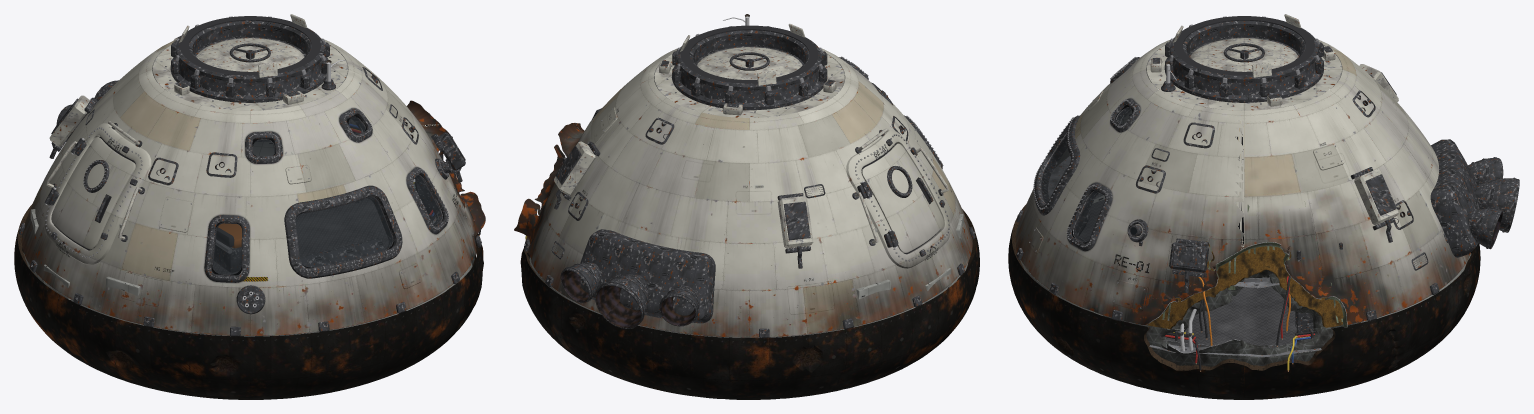
The model's file is capsule_shell_remnant.glb.
3 renders of one model, left to right at view 1: azimuth 30°, elevation 25°; view 2: azimuth 150°, elevation 25°; view 3: azimuth 270°, elevation 25°, orthographic. The views are drawn at different scales.
Visible parts, largest first — view 1: capsule_shell_remnant; view 2: capsule_shell_remnant; view 3: capsule_shell_remnant.
Boxes of the visible parts, <box> form: capsule_shell_remnant: <box>14,14,485,399</box>; capsule_shell_remnant: <box>514,14,979,399</box>; capsule_shell_remnant: <box>1008,14,1519,399</box>.
Bounding box in the file's own units: 3.95 × 2.85 × 4.24.
Materials: 38 (18 with a texture image).
